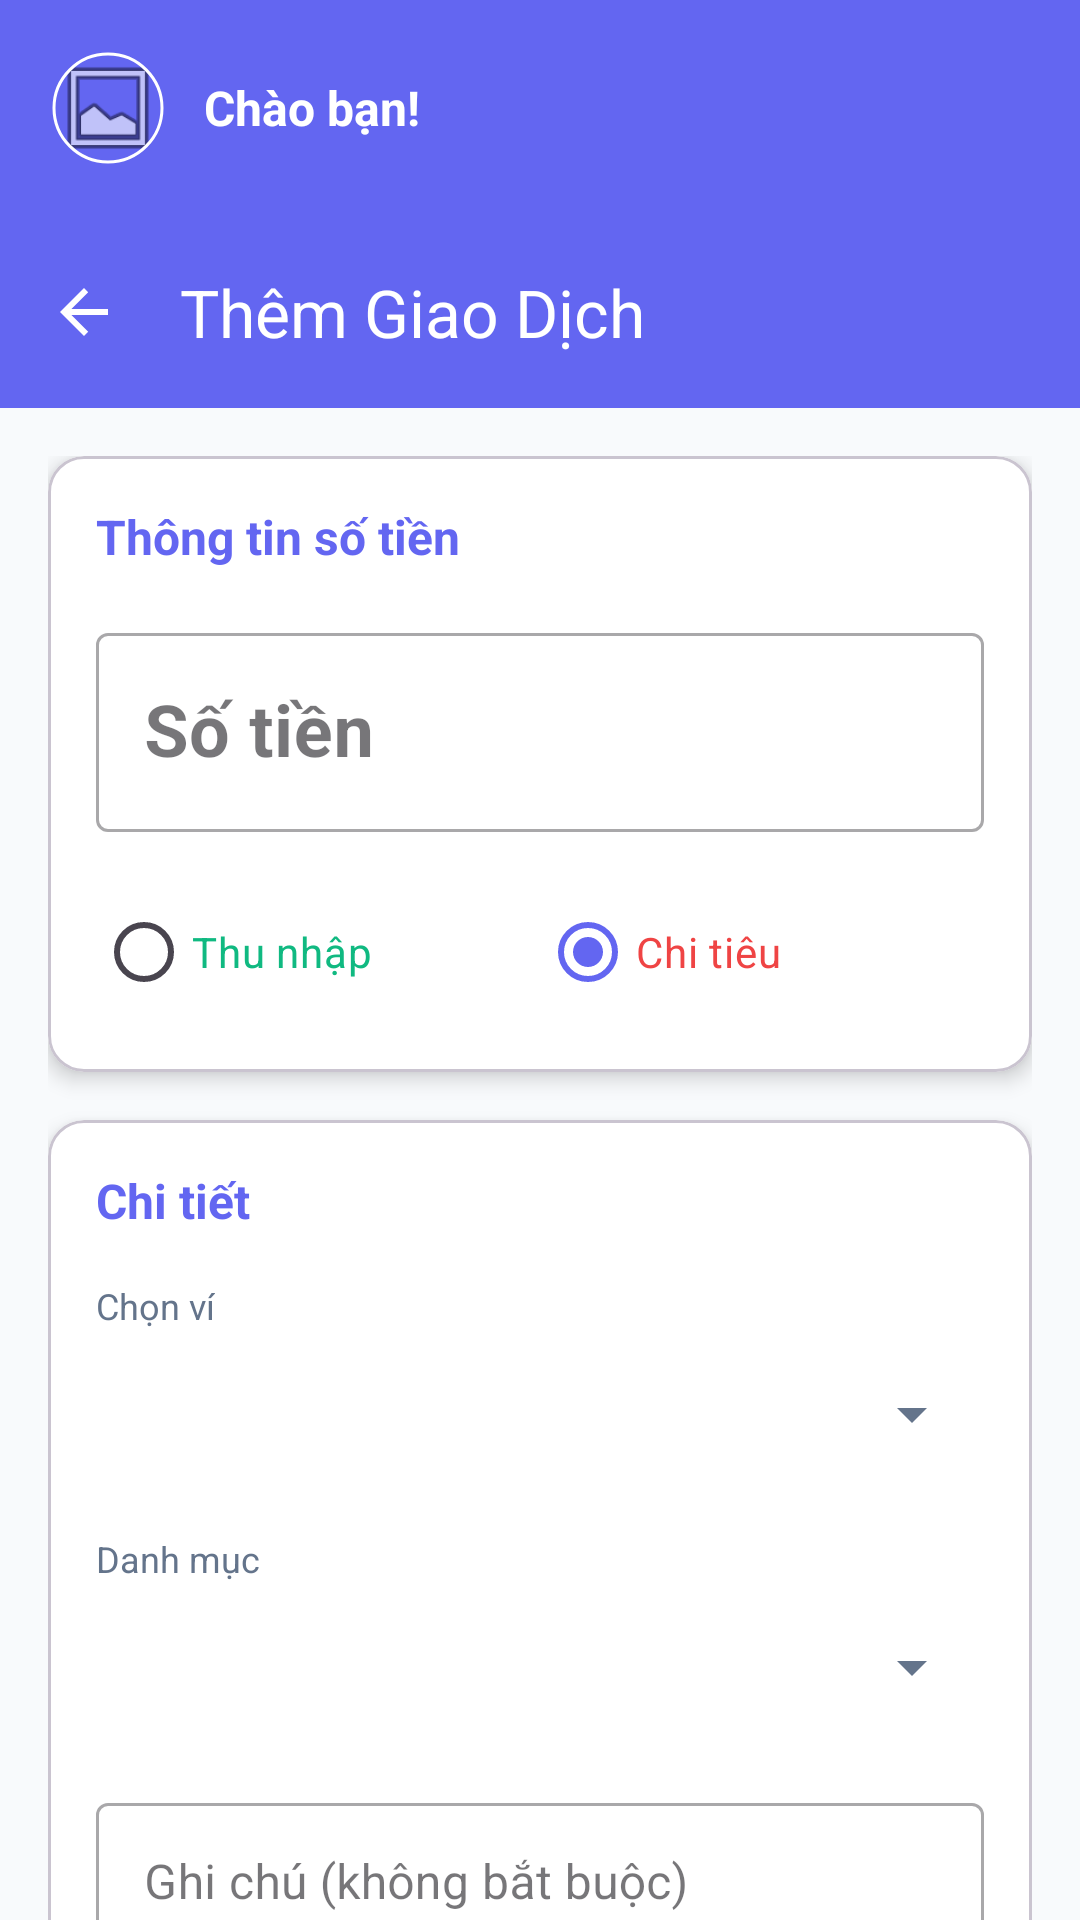

Locate icon controls on the screen. Image size 1080px×1920px, boxes as (x1, y1, x2, y2).
gallery: (52, 52, 164, 164)
